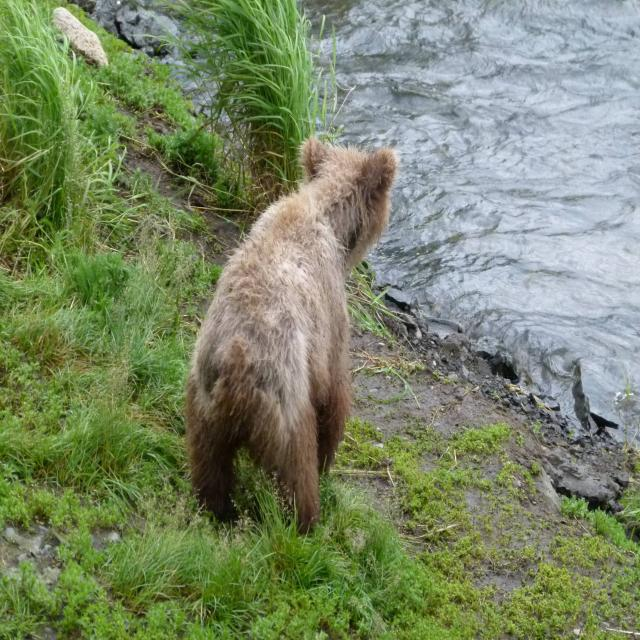bear face: (187, 137, 397, 532)
